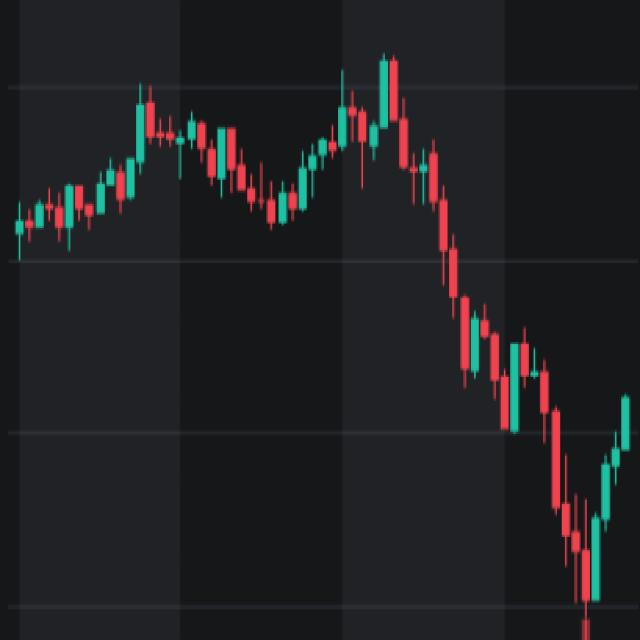Support-breakout: (287, 46, 580, 594)
